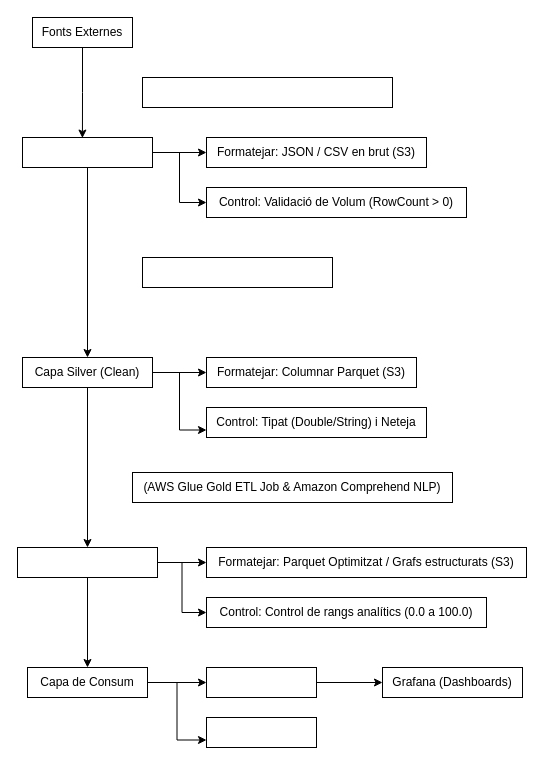
Some shapes in this 544 by 766 pixel diagram are drawn without their labels. The box of each missing label's shape, as (x1, y1, x2, y2) in pixels:
(APIs de CoinGecko i Bluesky via Lambda: (142, 76, 392, 108)
(AWS Glue ETL Job - PySpark): (142, 256, 332, 288)
Amazon Athena: (206, 666, 316, 698)
Capa Bronze (Raw): (22, 136, 152, 168)
Capa Gold (Business): (16, 546, 158, 578)
Exportació: (206, 716, 316, 748)
